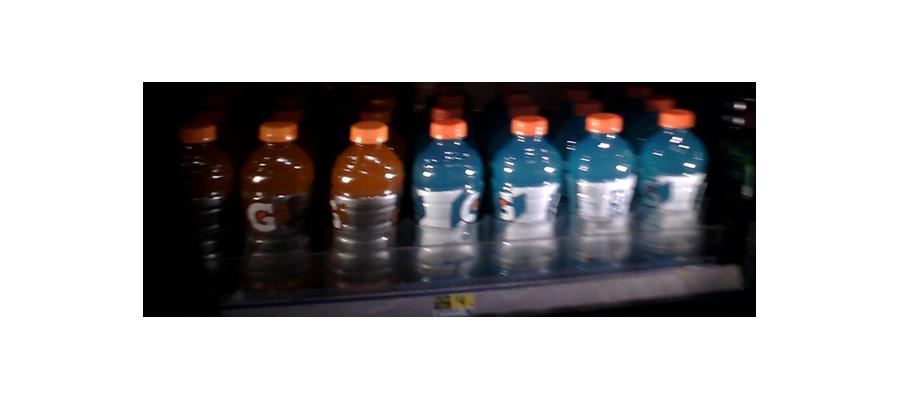bottle: (240, 118, 314, 296), (325, 122, 401, 294), (488, 117, 562, 281), (413, 117, 483, 285), (636, 106, 705, 262), (566, 117, 634, 273), (174, 137, 234, 287)
